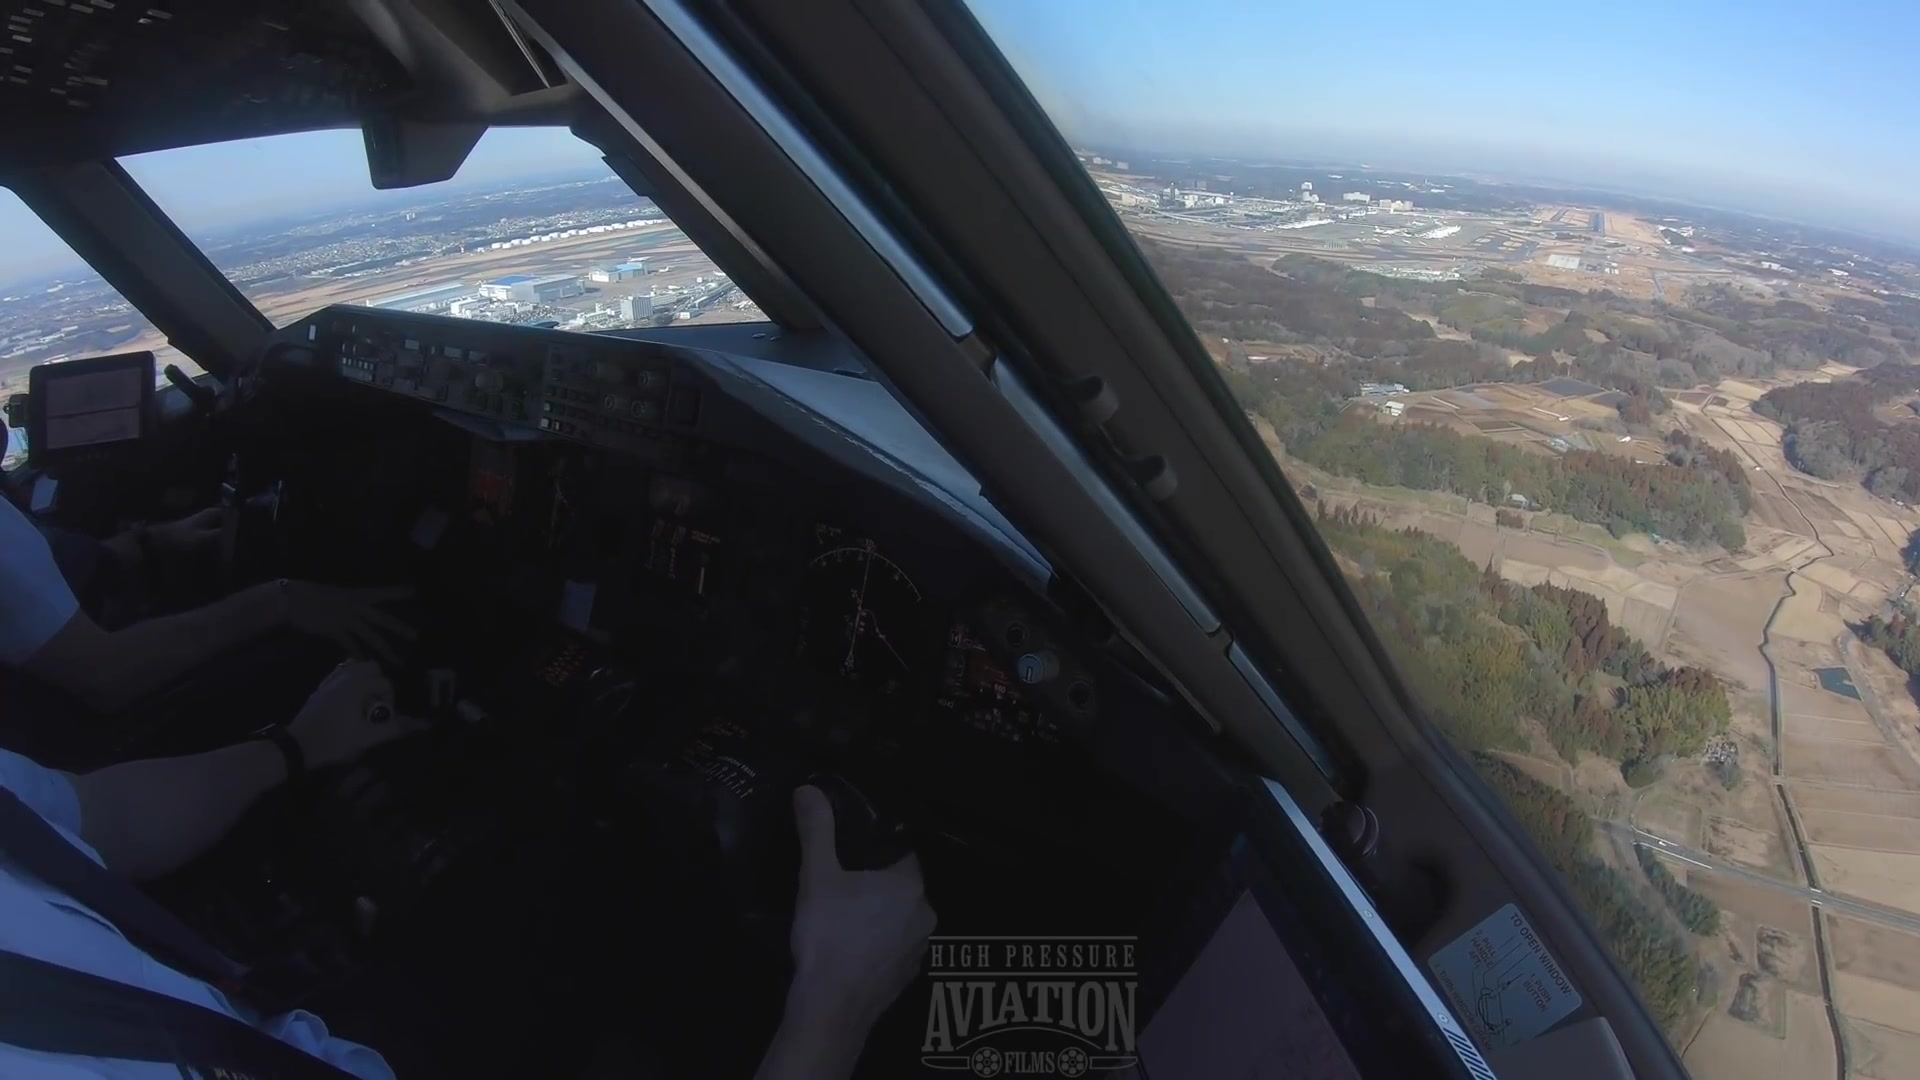runway: (1584, 210, 1605, 235), (1547, 206, 1571, 224)
